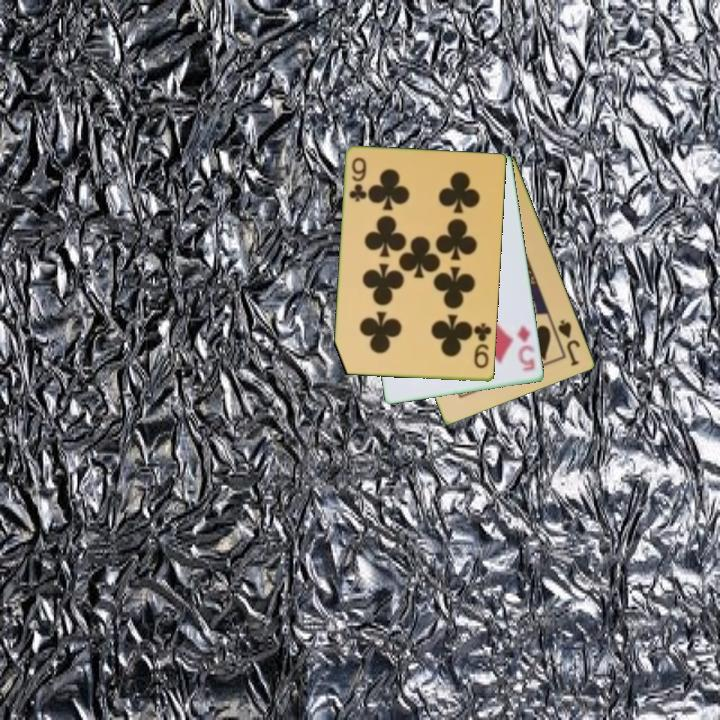5d: (513, 322, 538, 374)
9c: (471, 320, 495, 371), (346, 154, 370, 205)
Js: (555, 316, 583, 369)
